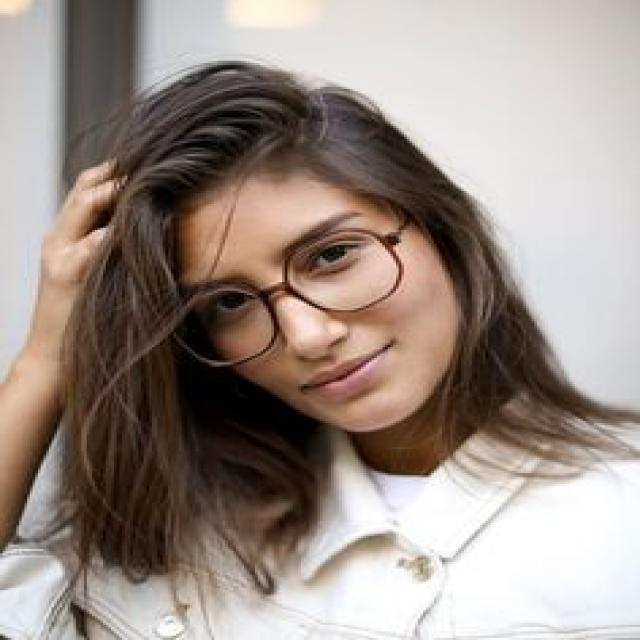Glasses: (170, 214, 414, 370)
